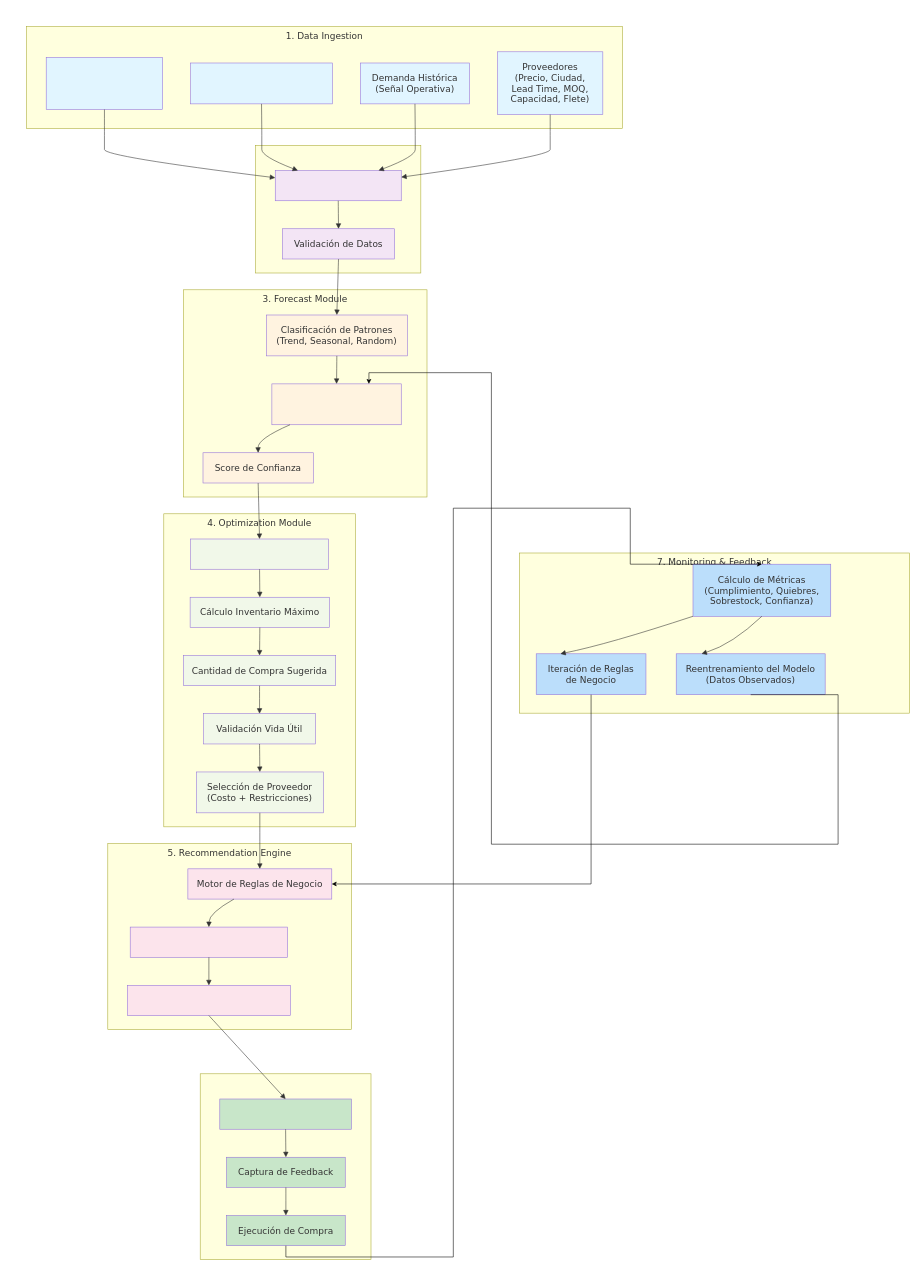
This 920x1271 diagram has some shape labels left out. Here are the shapes that lost their labels. From the top down, the box of each, then its label:
(46, 57, 163, 109): Maestro de Piezas (SKU, Categoría, Criticidad, Vida Útil)
(190, 62, 332, 104): Inventario Actual (Stock por Ciudad/Bodega)
(275, 170, 401, 201): Consolidación de Datos
(255, 145, 421, 273): 2. Data Processing
(271, 383, 401, 425): Proyección de Demanda (ML/Statistical Models)
(190, 538, 328, 569): Cálculo Inventario Mínimo
(130, 927, 288, 957): Generación de Recomendación
(127, 985, 290, 1016): Explicación en Lenguaje Natural
(219, 1098, 351, 1129): Dashboard de Validación
(200, 1073, 371, 1260): 6. Human Validation
